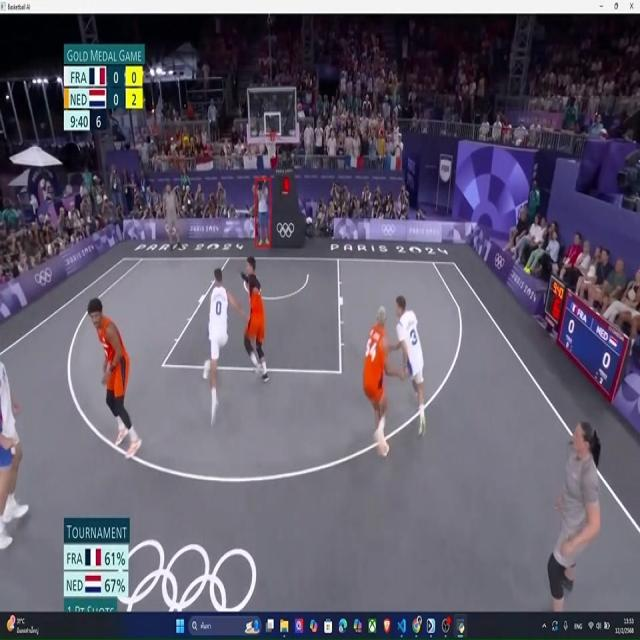hoop: (263, 130, 280, 160)
